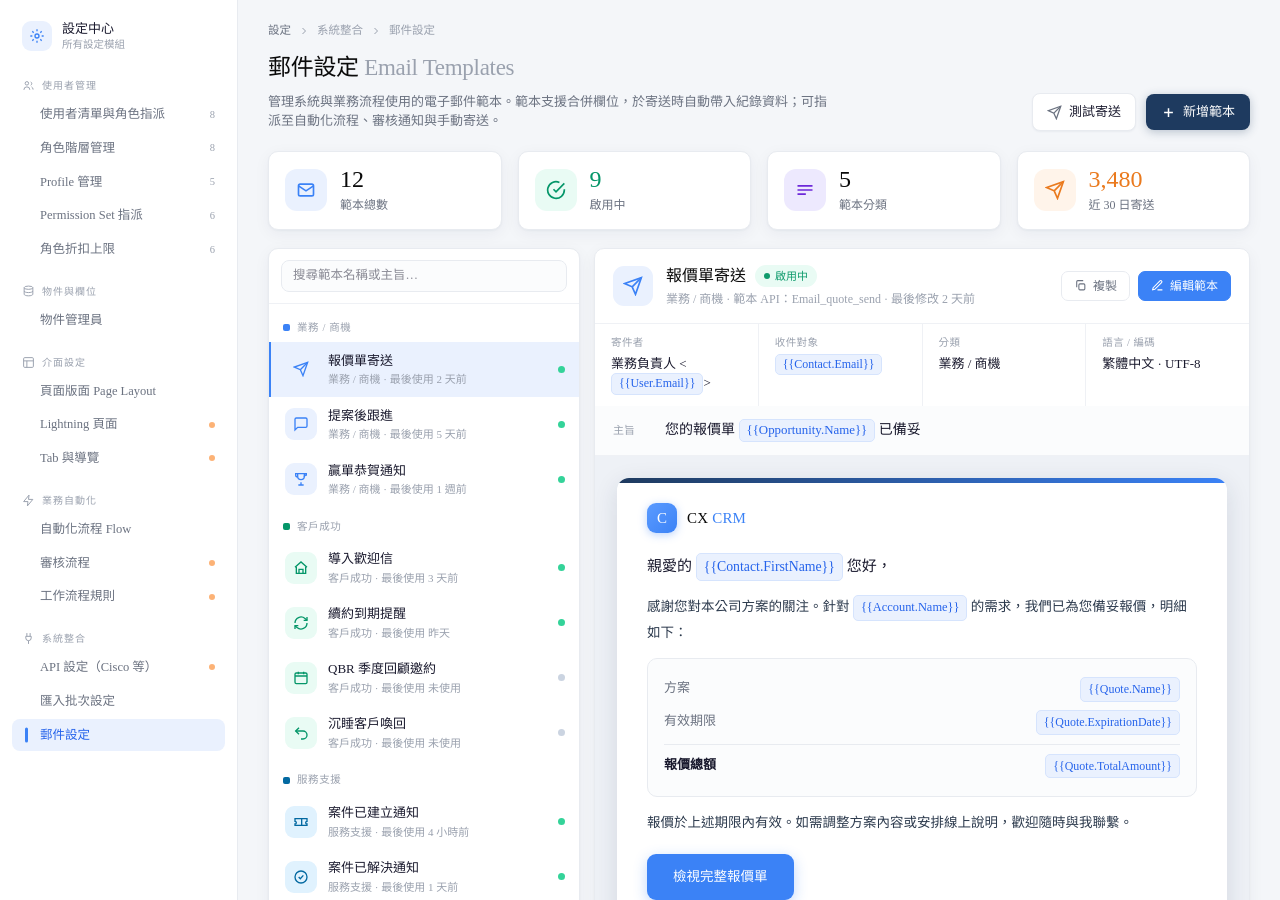
郵件範本編輯 › 點「編輯範本」開啟抽屜，欄位預填選取範本內容
What coordinates should you click on to do the following:
click the button "編輯範本"
I would click on:
 (1184, 286)
Its box is [1138,271,1231,301].
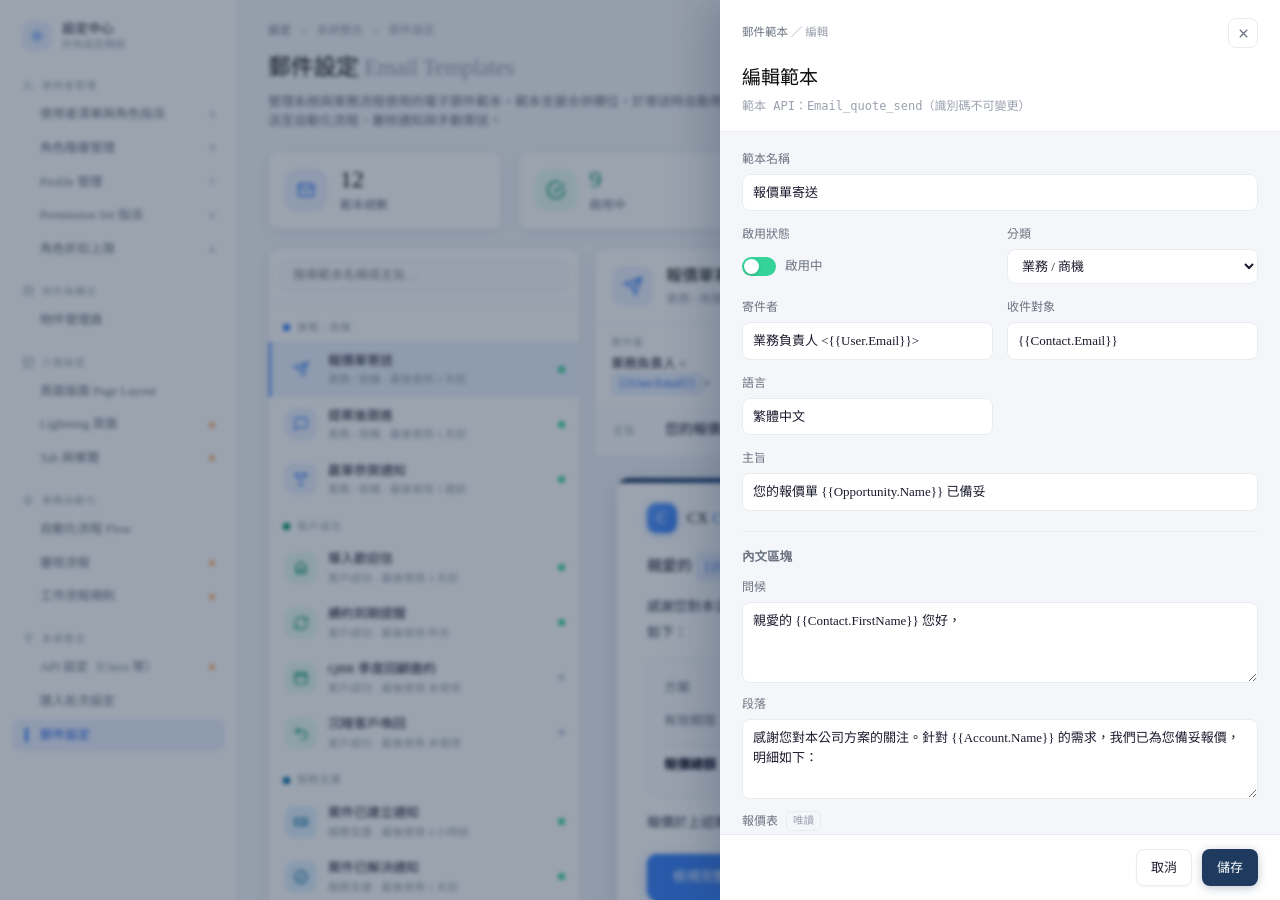
Check: the field labelled "範本名稱" holds "報價單寄送", box [742,174,1258,211]
Check: the field labelled "主旨" holds "您的報價單 {{Opportunity.Name}} 已備妥", box [742,473,1258,510]
